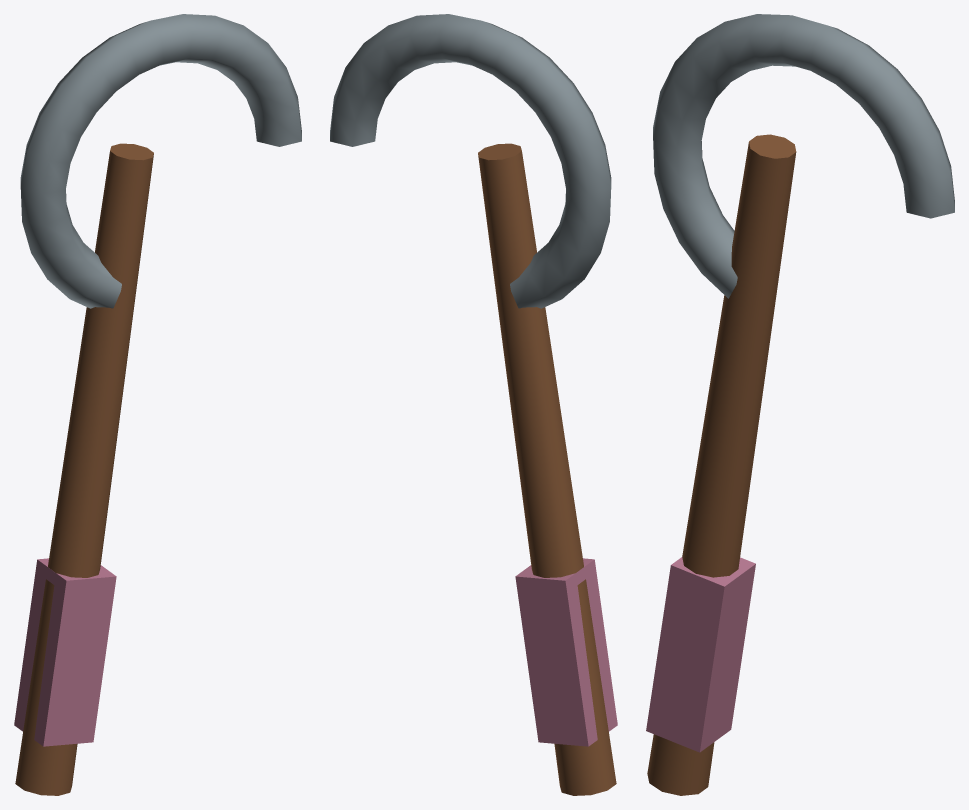
The model's file is tool_sickle.glb.
3 renders of one model, left to right at view 1: azimuth 30°, elevation 25°; view 2: azimuth 150°, elevation 25°; view 3: azimuth 330°, elevation 25°, orthographic. The views are drawn at different scales.
Parts seen in each view (by area): view 1: blade, handle, grip_wrap; view 2: blade, handle, grip_wrap; view 3: blade, handle, grip_wrap.
Part boxes in pixels (x1,y1,x2,y2): blade: [20, 14, 301, 308]; handle: [15, 143, 153, 795]; grip_wrap: [14, 558, 116, 746]; blade: [330, 14, 611, 308]; handle: [478, 143, 616, 795]; grip_wrap: [515, 558, 617, 746]; blade: [653, 14, 954, 298]; handle: [647, 134, 796, 795]; grip_wrap: [646, 557, 755, 752].
Size of what is drawn, in the model's own units: 1 by 2.52 by 0.18.
